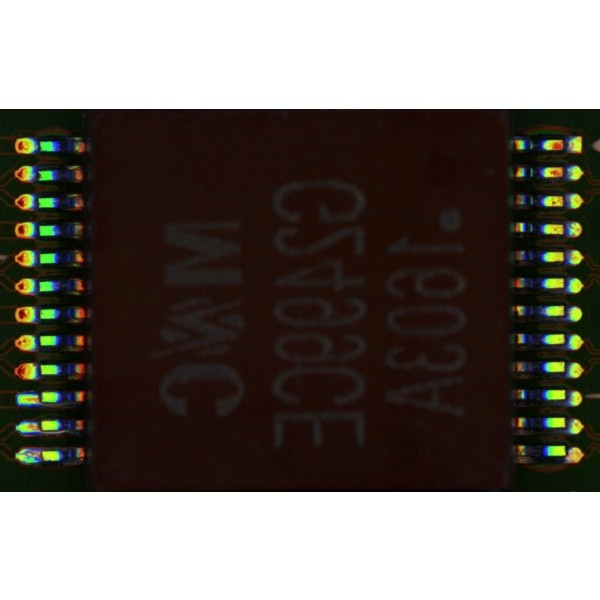Bad_podu: (28, 424, 47, 431), (28, 396, 50, 402)
Bad_qiaojiao: (41, 431, 70, 434)
